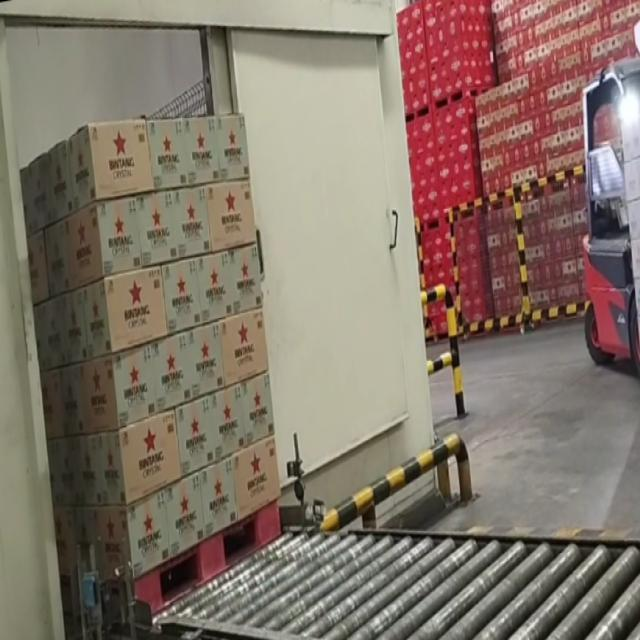pallet: (0, 96, 289, 624)
